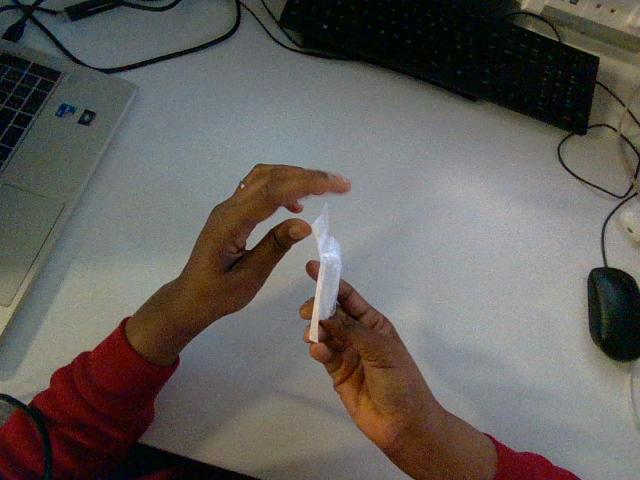gauze: (309, 204, 341, 342)
